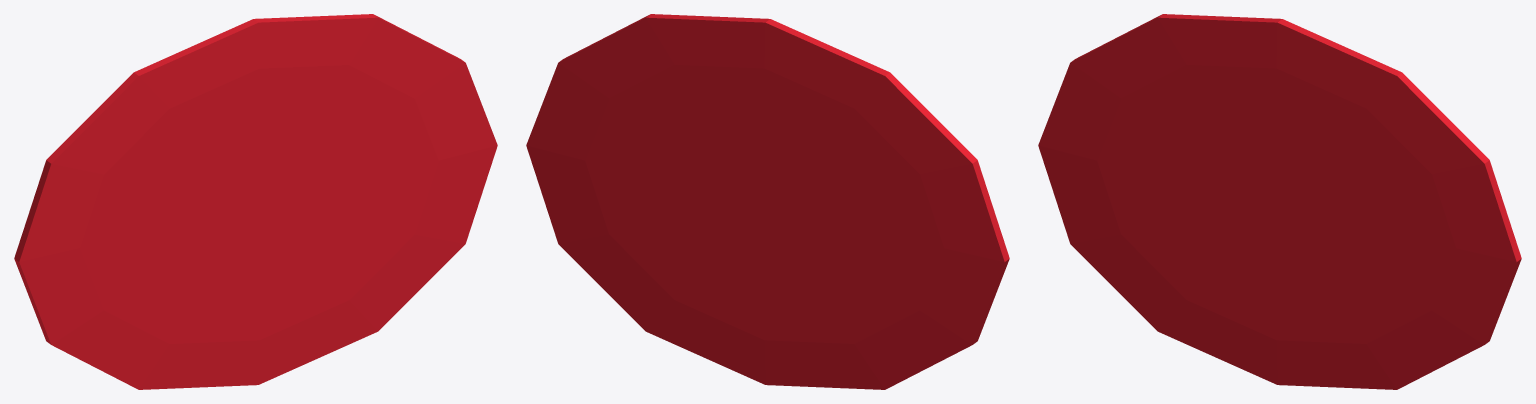
The model's file is Interieur.obj.
3 renders of one model, left to right at view 1: azimuth 30°, elevation 25°; view 2: azimuth 150°, elevation 25°; view 3: azimuth 330°, elevation 25°, orthographic.
Parts seen in each view (by area): view 1: obj_0; view 2: obj_0; view 3: obj_0.
Part boxes in pixels (box(x1,y1,x2,y2)): obj_0: box(14, 14, 497, 389); obj_0: box(526, 14, 1009, 389); obj_0: box(1038, 14, 1521, 389).
Size of the model in its own units: 818 by 592 by 20.
